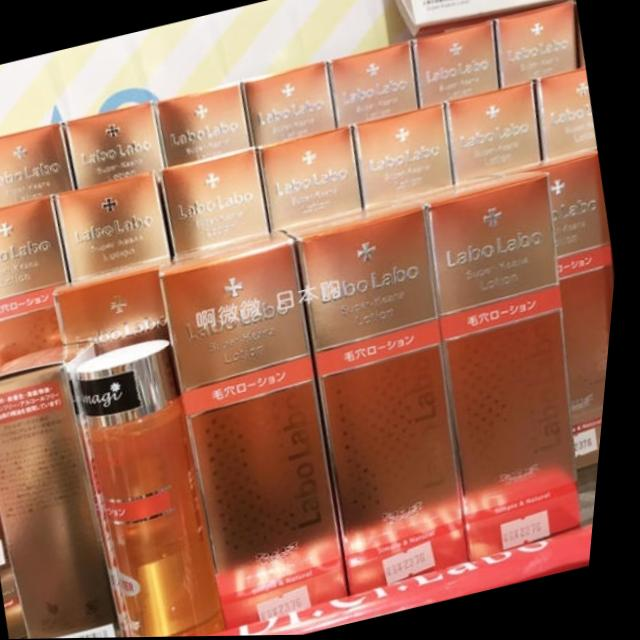box: (163, 232, 360, 631), (285, 200, 482, 596), (411, 170, 595, 561), (213, 526, 603, 637), (0, 338, 143, 639), (532, 153, 618, 471), (57, 172, 177, 284), (163, 146, 274, 261), (259, 125, 368, 235), (354, 104, 456, 212), (57, 263, 175, 354), (445, 80, 544, 188), (67, 102, 169, 188), (242, 60, 338, 147), (157, 82, 253, 168), (411, 20, 502, 110), (328, 41, 420, 128), (0, 194, 74, 299), (493, 1, 580, 88), (0, 123, 78, 207), (537, 69, 600, 165), (0, 285, 68, 367), (599, 153, 620, 308)
